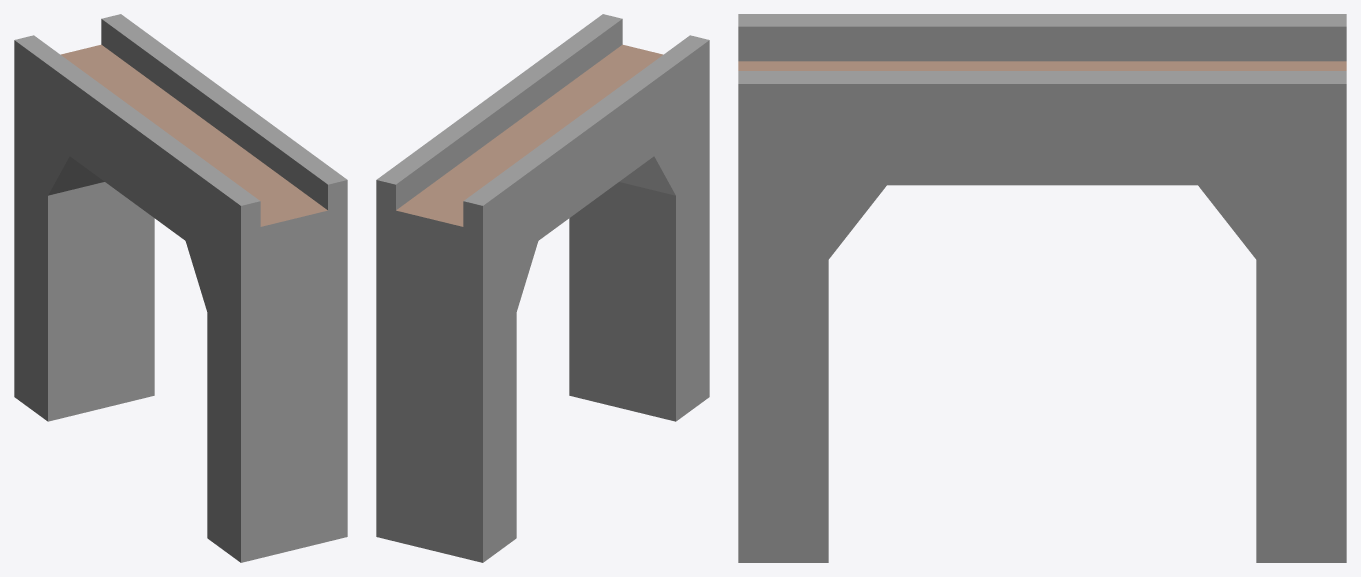
File: Bridge03.fbx
3 views of the same model, side by side, from view 1: azimuth 30°, elevation 25°; view 2: azimuth 150°, elevation 25°; view 3: azimuth 270°, elevation 25° (orthographic). The views are drawn at different scales.
Visible parts, largest first — view 1: Bridge_Big1; view 2: Bridge_Big1; view 3: Bridge_Big1.
Part boxes in pixels (x1,y1,x2,y2): Bridge_Big1: (14,14,347,562); Bridge_Big1: (376,14,709,562); Bridge_Big1: (738,14,1346,562).
Size of the model in its own units: 0.4703 by 1.5 by 1.73.
